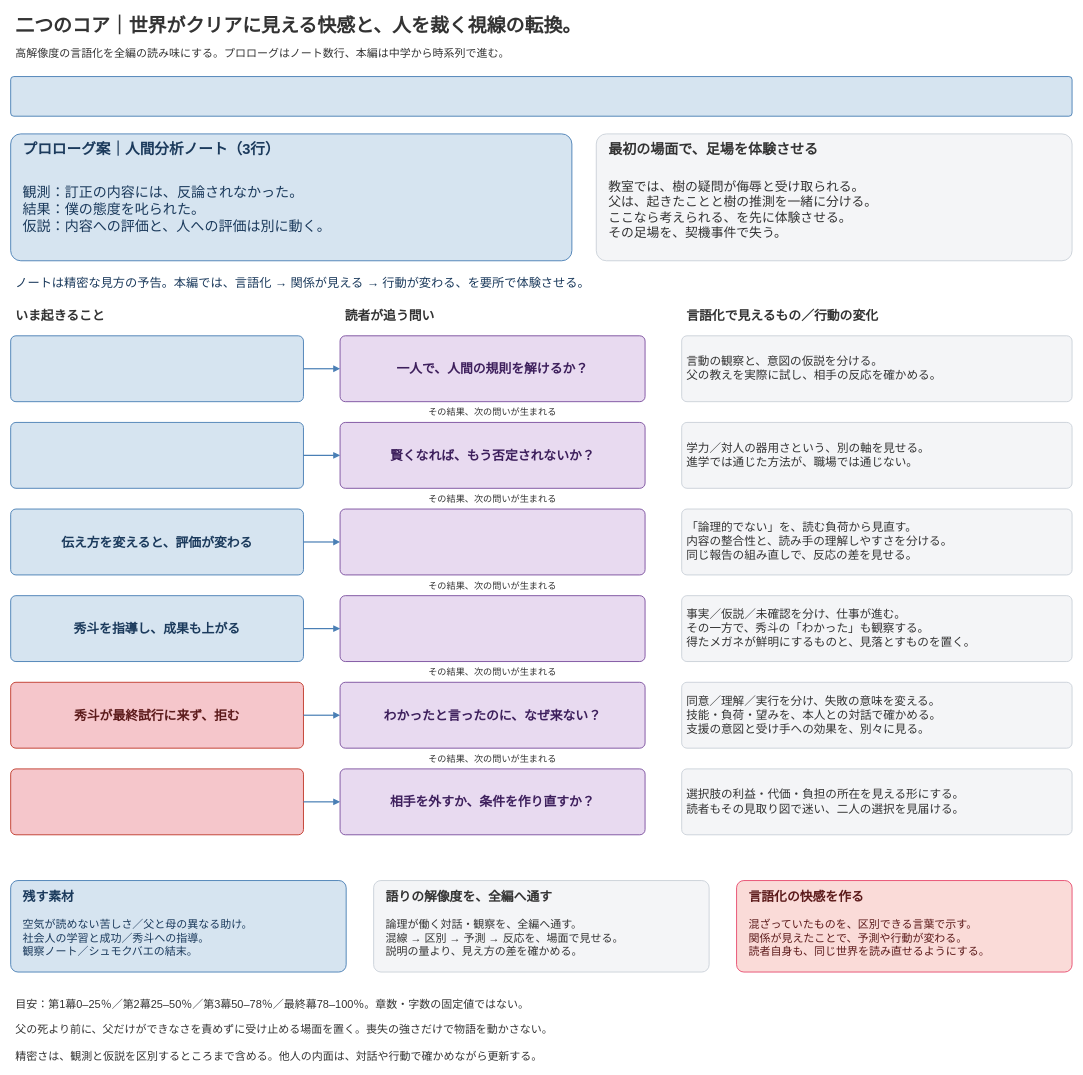
The diagram is 1083 pixels wide and 1075 high, and some of its shapes have lost their labels. The shapes that lost their labels are listed below. From the top down, each one's centre as x and y in pixels, then its label:
At point (541, 96): "ノート抜粋 → 中学 → 進学・就職 → 論理の獲得 → 秀斗との再会 → 対決と選択".
At point (157, 368): "父を失い、仮説を試す".
At point (157, 455): "教室を離れ、学力で成功する".
At point (492, 541): "同じ内容なのに、なぜ今は通る？".
At point (492, 628): "この方法は、あの相手にも効くか？".
At point (157, 801): "二案と、その代価を前にする".
